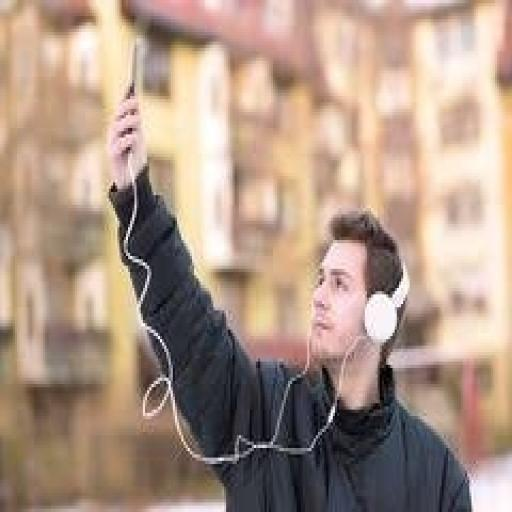listening_to_music: (106, 77, 476, 509)
